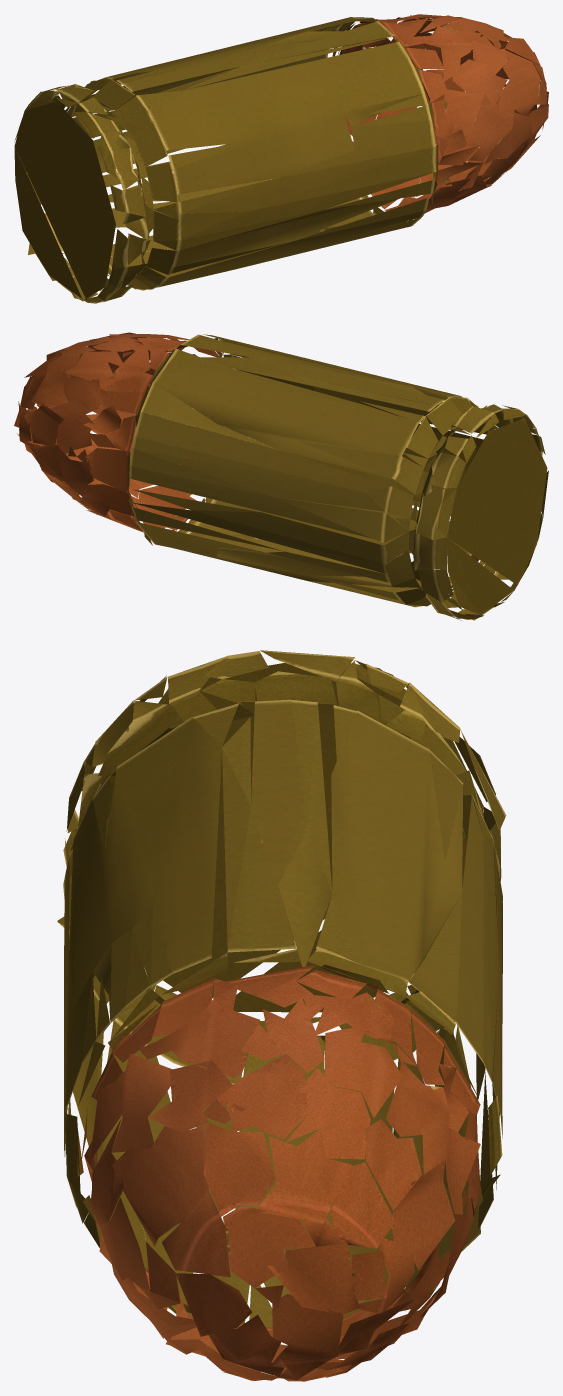
The model's file is ammo_9mm_lod2.glb.
3 renders of one model, top to bottom at view 1: azimuth 30°, elevation 25°; view 2: azimuth 150°, elevation 25°; view 3: azimuth 270°, elevation 25°, orthographic. The views are drawn at different scales.
Parts seen in each view (by area): view 1: LOD2; view 2: LOD2; view 3: LOD2.
Boxes of the visible parts, left/top/right/bottom form: LOD2: left=14, top=14, right=548, bottom=303; LOD2: left=14, top=332, right=548, bottom=620; LOD2: left=57, top=650, right=506, bottom=1381.
Size of the model in its own units: 0.3861 by 0.1551 by 0.1582.
1 material, 1 textured.
